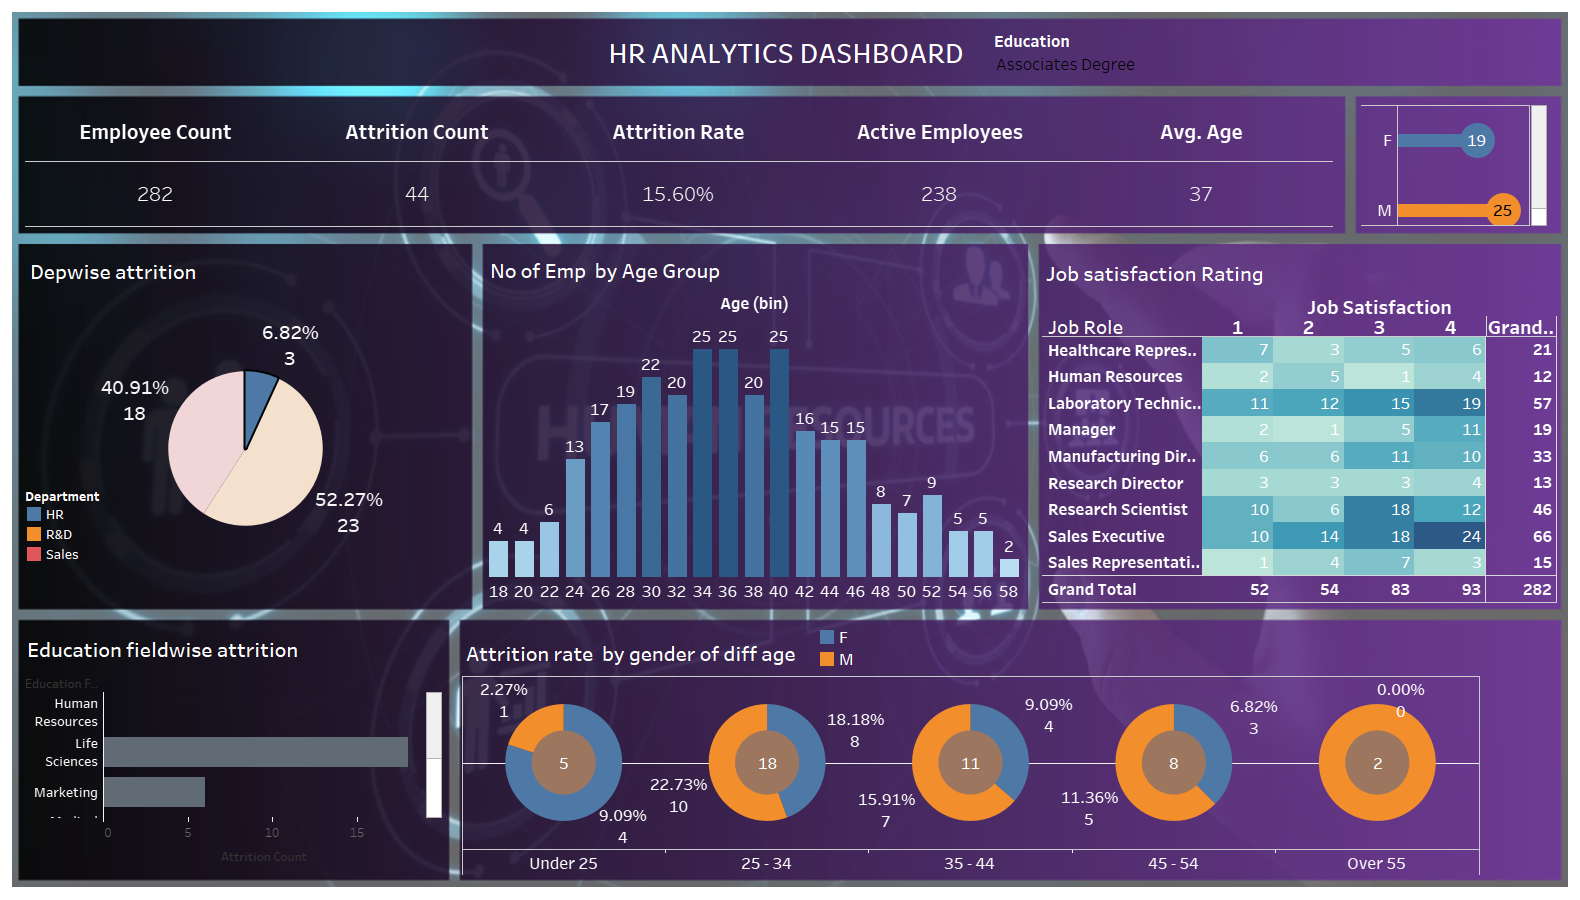

The page's visual inventory and layout, read from the dashboard file:
{"tool":"tableau","page":{"name":"HR analytics dashboard ","canvas":[1580,900],"ordinal":0},"visuals":[{"type":"image","param":"C:/Users/hp/Downloads/HR background.pptx.png","box":[8,8,1564,884]},{"type":"text","box":[23,22,1526,60]},{"type":"filter","title":"Attrition rate  by gender of diff age","param":"[federated.03wkcsu1n1rv3f1cn6fzj0f64bcg].[none:Education:nk]","box":[994,29,160,50]},{"type":"worksheet","title":"KPI","mark":"Automatic","box":[25,101,1308,126]},{"type":"worksheet","title":"attrition by gender","mark":"Automatic","rows":["Gender"],"cols":["Calculation_470063221738008576","Calculation_470063221738008576"],"box":[1361,105,194,121]},{"type":"worksheet","title":"No of Emp  by Age Group","mark":"Automatic","rows":["Employee Count"],"cols":["Age (bin)"],"box":[486,250,536,353]},{"type":"worksheet","title":"Depwise attrition","mark":"Pie","box":[26,251,439,352]},{"type":"worksheet","title":"Job satisfaction Rating","mark":"Square","rows":["Job Role"],"cols":["Job Satisfaction"],"box":[1042,253,516,350]},{"type":"legend","title":"Depwise attrition","param":"[federated.03wkcsu1n1rv3f1cn6fzj0f64bcg].[none:Department:nk]","box":[24,485,140,78]},{"type":"legend","title":"Attrition rate  by gender of diff age","param":"[federated.03wkcsu1n1rv3f1cn6fzj0f64bcg].[none:Gender:nk]","box":[816,626,140,41]},{"type":"worksheet","title":"Education fieldwise attrition","mark":"Automatic","rows":["Education Field"],"cols":["Calculation_470063221738008576"],"box":[23,629,419,243]},{"type":"worksheet","title":"Attrition rate  by gender of diff age","mark":"Pie","rows":["Calculation_470063221763510276","Calculation_470063221763510276"],"cols":["CF_age band"],"box":[462,633,1018,243]}]}

Visuals, with their boxes in screenshot pixels (x1, y1, x2, y2), scaled from the page's 1580x900 canvas onto the 1580x900 screenshot:
image: box(8, 8, 1572, 892)
text: box(23, 22, 1549, 82)
"Attrition rate  by gender of diff age" filter: box(994, 29, 1154, 79)
"KPI" worksheet: box(25, 101, 1333, 227)
"attrition by gender" worksheet: box(1361, 105, 1555, 226)
"No of Emp  by Age Group" worksheet: box(486, 250, 1022, 603)
"Depwise attrition" worksheet (Pie marks): box(26, 251, 465, 603)
"Job satisfaction Rating" worksheet (Square marks): box(1042, 253, 1558, 603)
"Depwise attrition" legend: box(24, 485, 164, 563)
"Attrition rate  by gender of diff age" legend: box(816, 626, 956, 667)
"Education fieldwise attrition" worksheet: box(23, 629, 442, 872)
"Attrition rate  by gender of diff age" worksheet (Pie marks): box(462, 633, 1480, 876)
